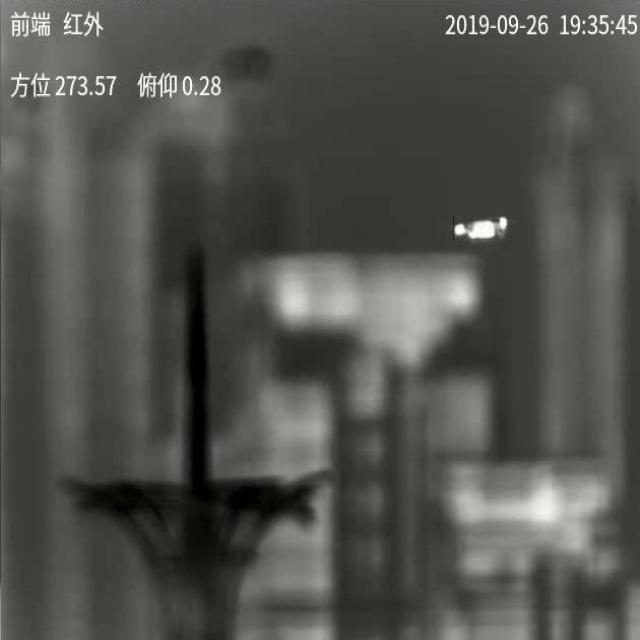drone: (454, 216, 508, 240)
